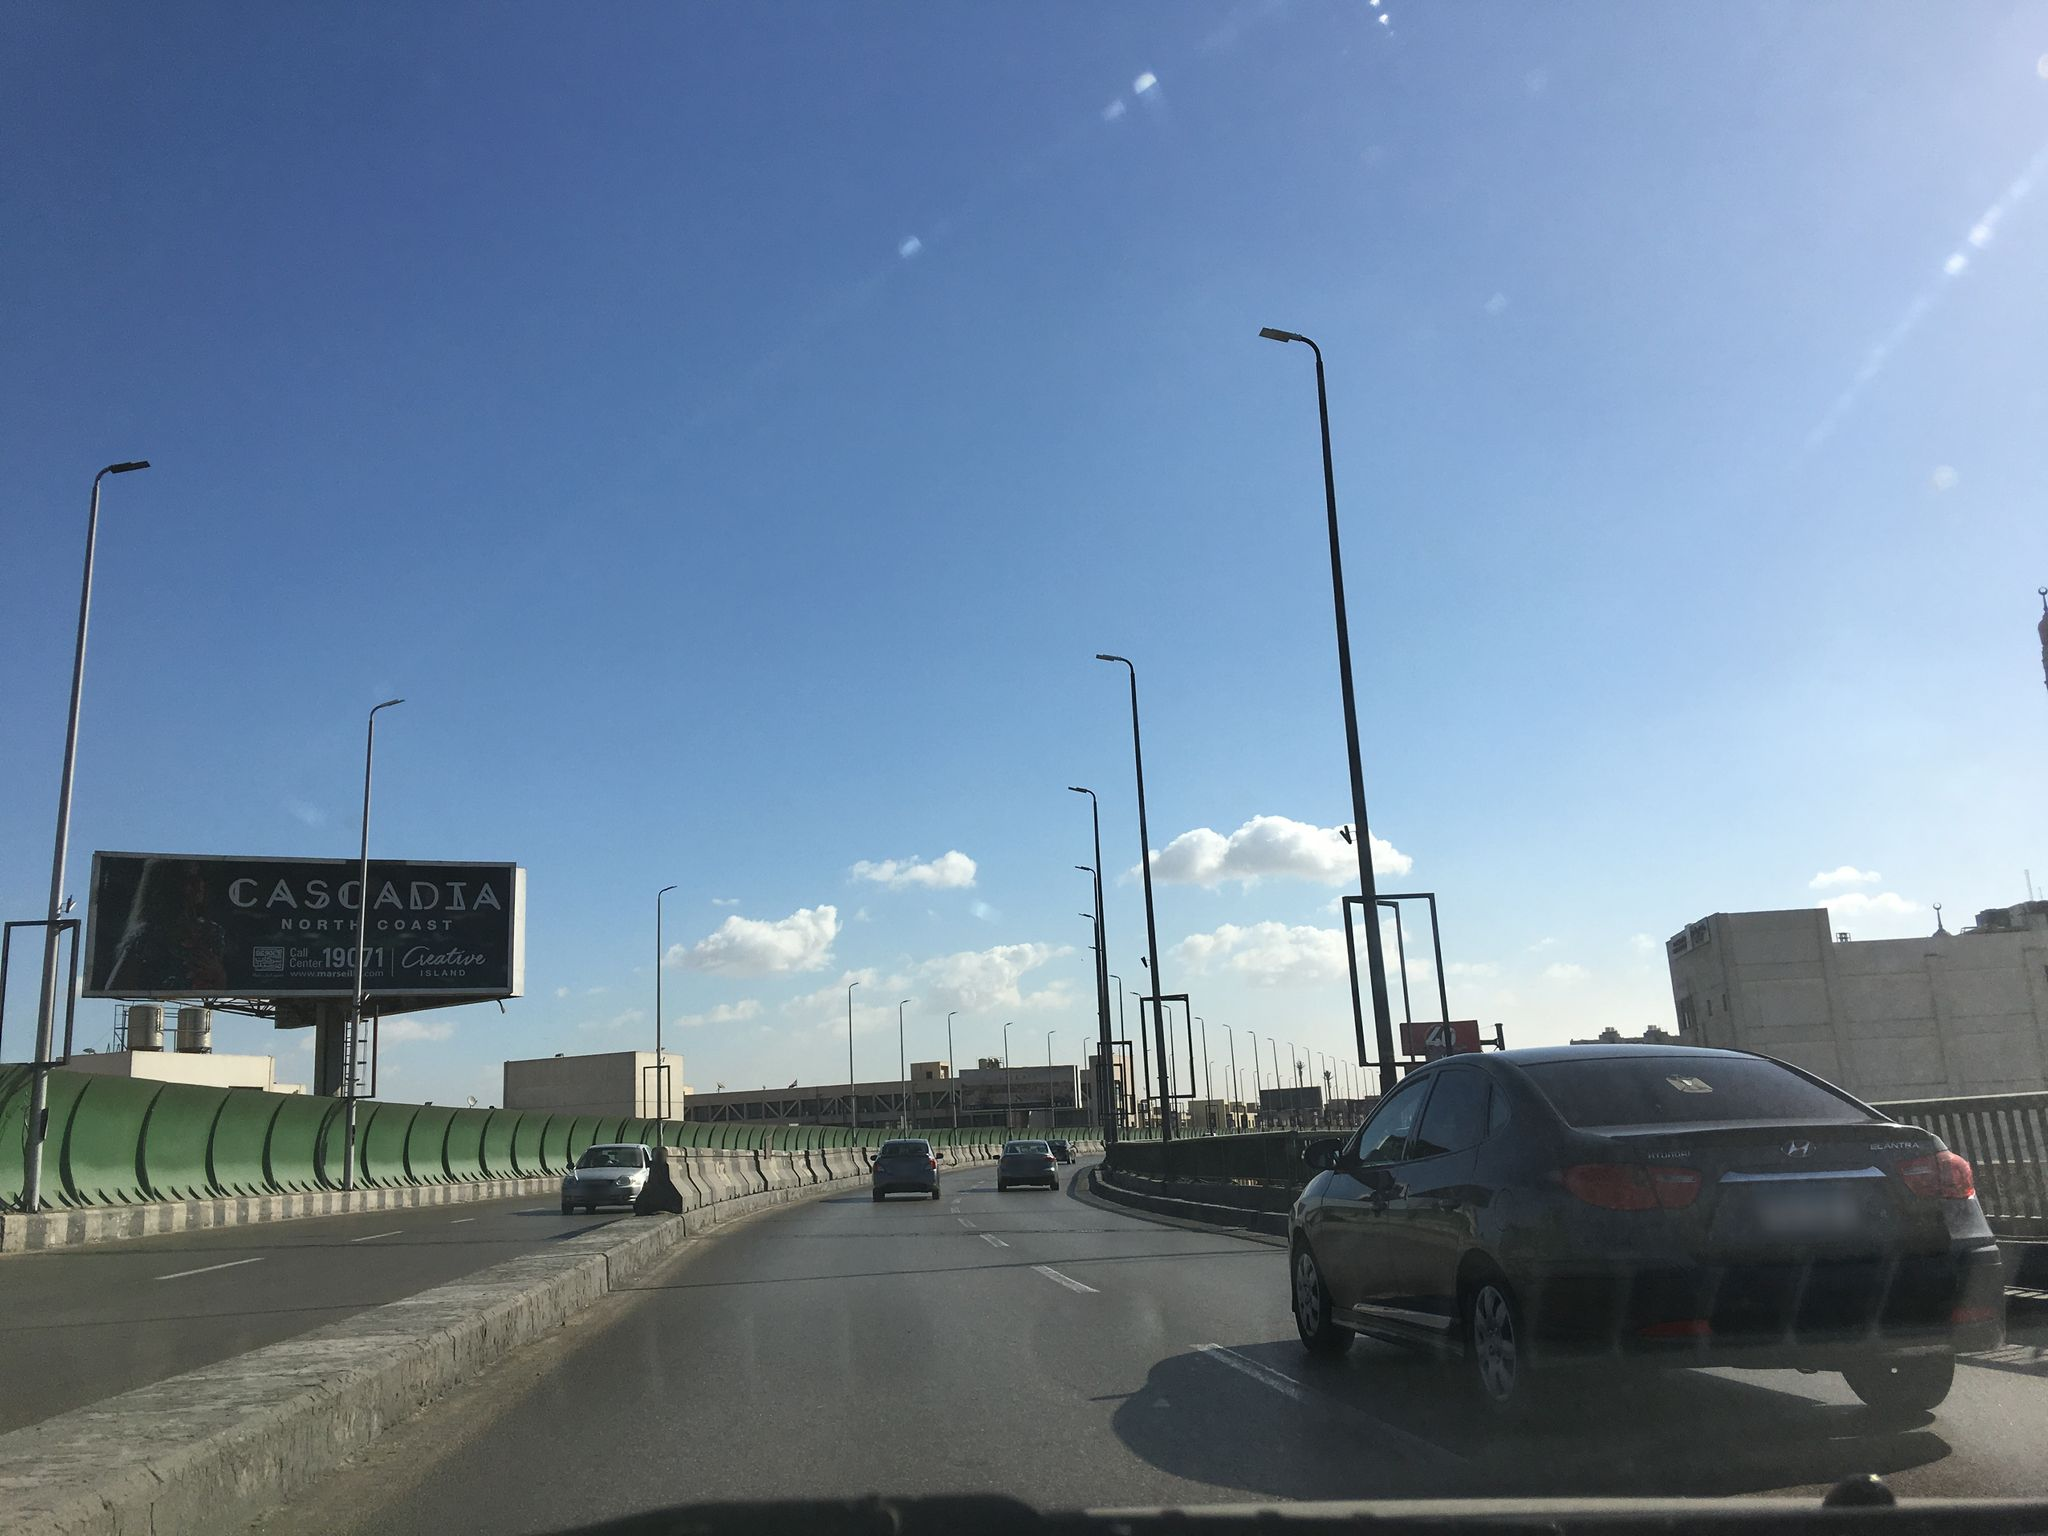car: (1285, 1042, 2008, 1417), (561, 1142, 651, 1213), (871, 1137, 943, 1199), (992, 1139, 1059, 1191), (1047, 1137, 1076, 1163)
